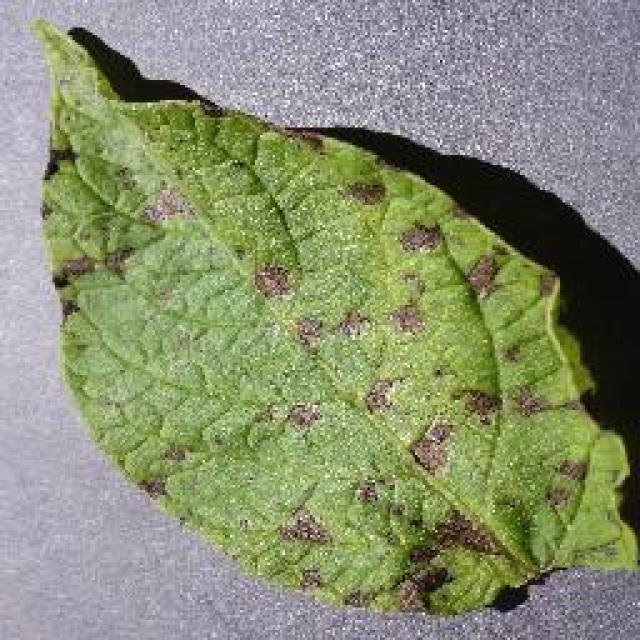early_blight: (25, 15, 637, 620)
